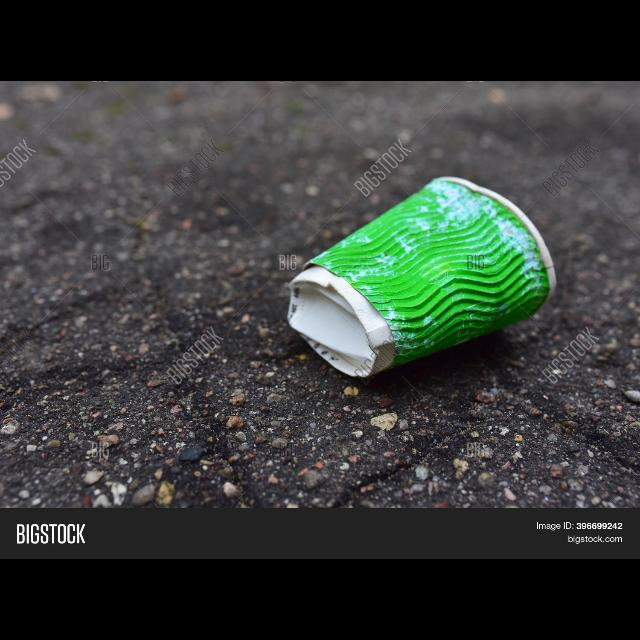trash: (286, 176, 558, 380)
